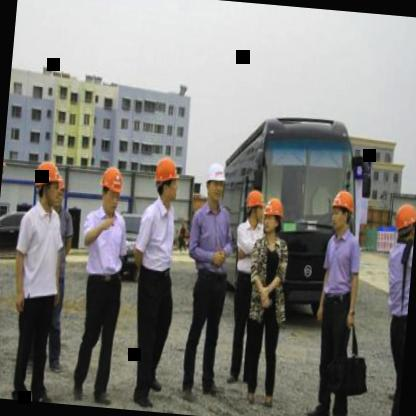helmet: (95, 162, 127, 218), (32, 158, 64, 213), (152, 154, 182, 209), (326, 187, 358, 236), (390, 197, 416, 247), (204, 160, 231, 206), (241, 186, 268, 229), (262, 197, 288, 238), (0, 128, 10, 200)
